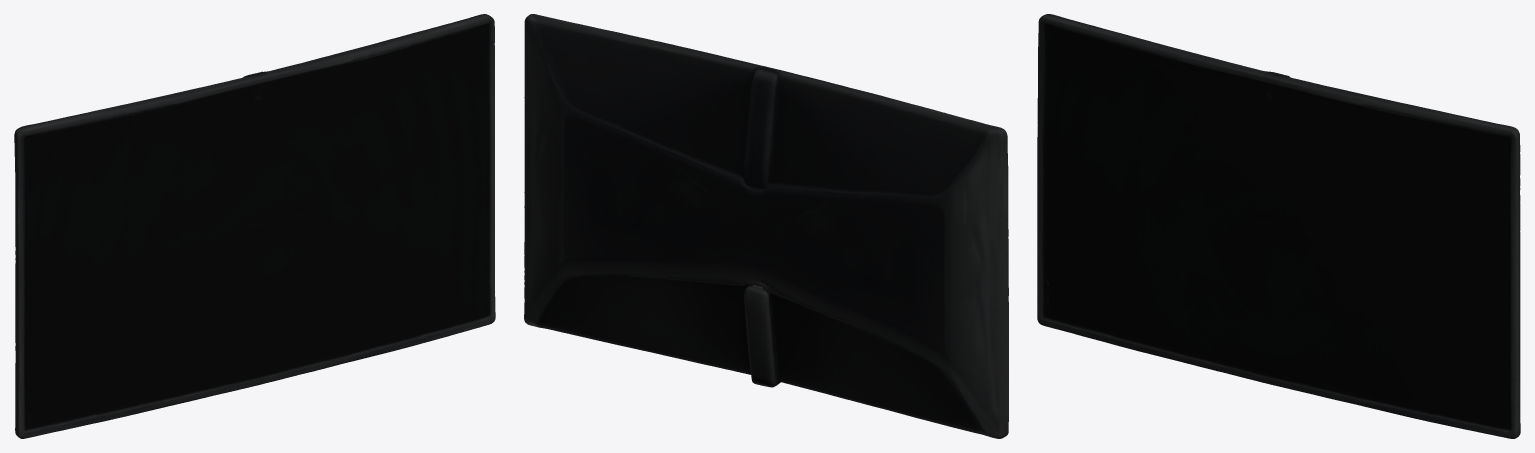
The model's file is item_fb8594bc.glb.
3 views of the same model, side by side, from view 1: azimuth 30°, elevation 25°; view 2: azimuth 150°, elevation 25°; view 3: azimuth 330°, elevation 25° (orthographic).
Parts seen in each view (by area): view 1: world; view 2: world; view 3: world.
Boxes of the visible parts, x1,y1,x2,y2 form: world: [14, 14, 495, 438]; world: [524, 14, 1008, 438]; world: [1037, 14, 1520, 438].
Bounding box in the file's own units: 1.23 × 0.7635 × 0.0896.
Materials: 1 (1 with a texture image).
